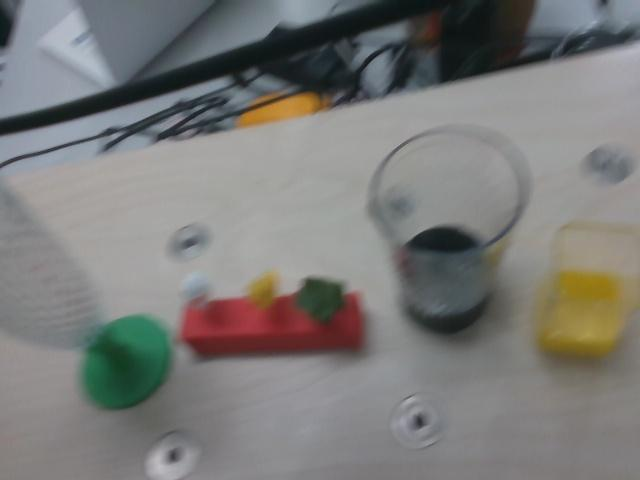black_cup: (397, 225, 495, 332)
green_cup: (79, 315, 171, 407)
leaf: (291, 275, 347, 326)
w_duck: (182, 272, 214, 311)
y_duck: (245, 269, 279, 310)
yellow_cup: (535, 271, 626, 358)
